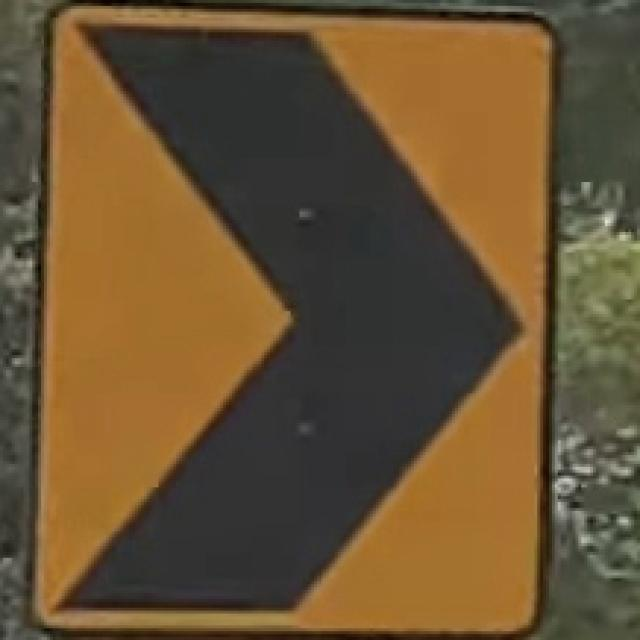curveright_sign: (26, 0, 558, 637)
